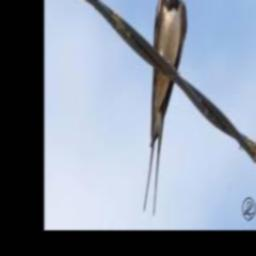Swallow: (143, 0, 187, 215)
